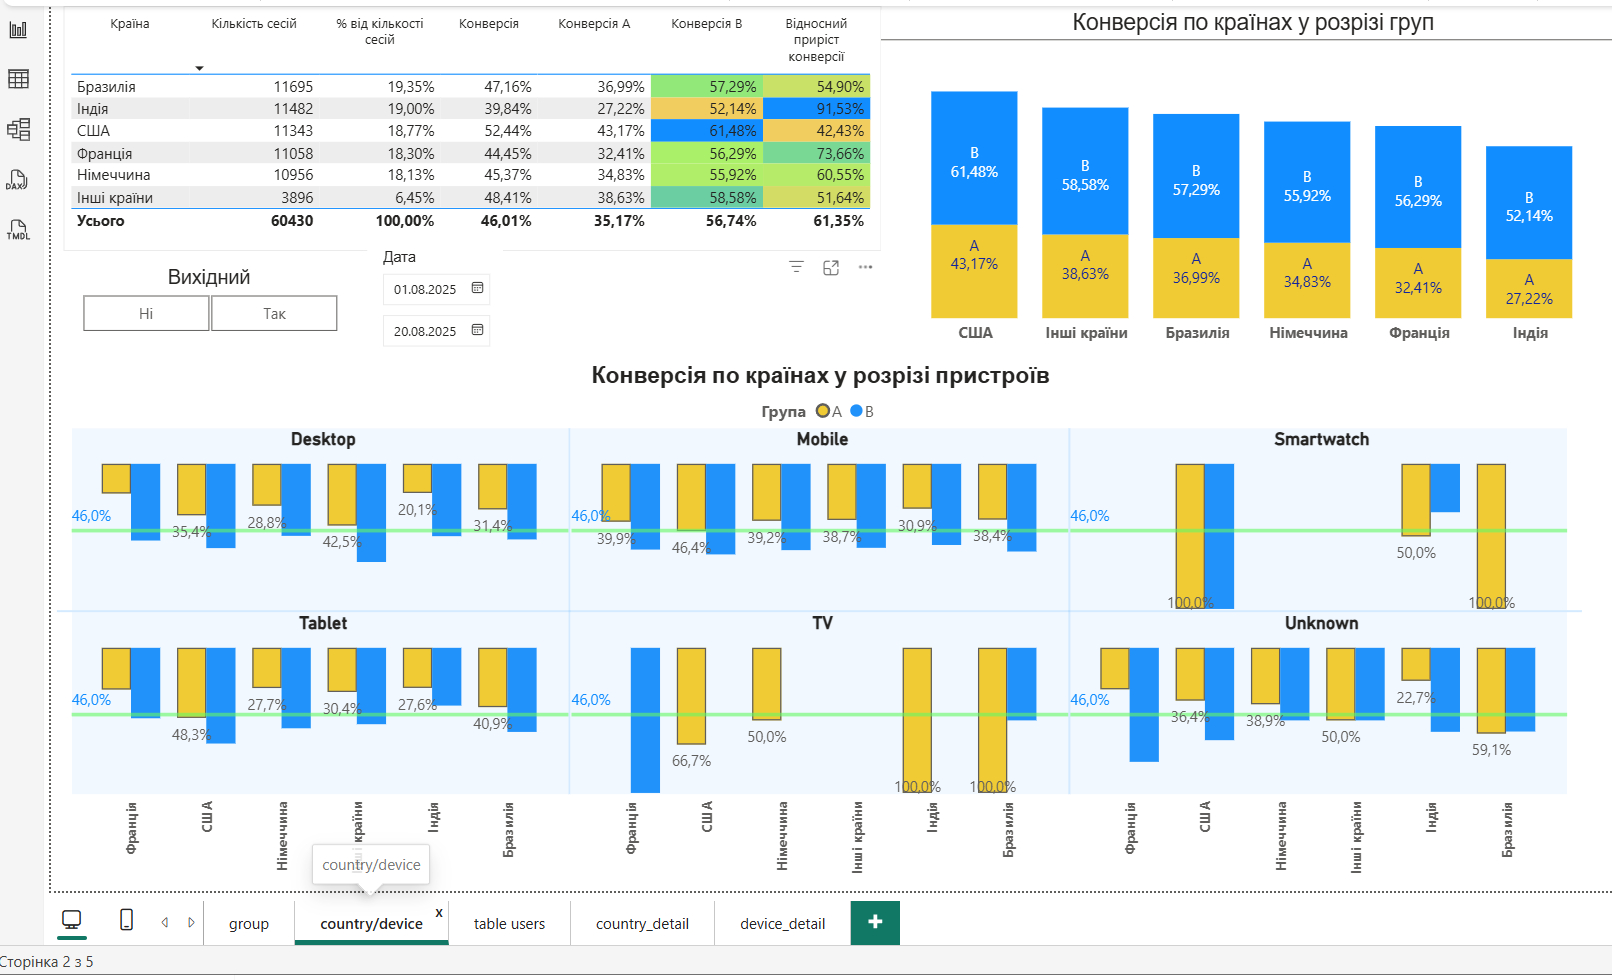

This screenshot's page, from the dashboard's own definition file:
{"tool":"powerbi","page":{"name":"country/device","canvas":[1280,720],"ordinal":1},"visuals":[{"type":"tableEx","fields":{"Values":["country.country_name","daily.total_visits","Divide(daily.total_visits, ScopedEval(daily.total_visits, []))","daily.cr","daily.cr_A","daily.cr_B","daily.cr_lift"]},"box":[10,0,664.5,198.8],"z":0},{"type":"columnChart","title":"Конверсія по країнах у розрізі груп","fields":{"Category":["country.country_name"],"Y":["daily.cr"],"Series":["group.group_label"]},"box":[674.5,2.7,605.5,279.6],"z":1000},{"type":"clusteredColumnChart","title":"Конверсія по країнах у розрізі пристроїв","fields":{"Category":["country.country_name"],"Y":["daily.cr"],"Rows":["device.device_name"],"Series":["group.group_label"]},"box":[0,289.7,1251.8,430.6],"z":2000},{"type":"slicer","fields":{"Values":["Date.Date"]},"box":[256.9,192.5,110.8,97.1],"z":3000},{"type":"slicer","title":"Вихідний","fields":{"Values":["Date.IsWorkday"]},"box":[0,211.5,256.9,59.9],"z":4000}]}

Visuals, with their boxes on the page's 1280x720 design canvas (x1, y1, x2, y2). These are canvas units, not pixel positions in the 1612x980 screenshot, which may show the page scaled, cropped or inside an application window:
tableEx - country.country_name x daily.total_visits: left=10, top=0, right=674, bottom=199
"Конверсія по країнах у розрізі груп" columnChart: left=674, top=3, right=1280, bottom=282
"Конверсія по країнах у розрізі пристроїв" clusteredColumnChart: left=0, top=290, right=1252, bottom=720
slicer - Date.Date: left=257, top=192, right=368, bottom=290
"Вихідний" slicer: left=0, top=212, right=257, bottom=271
